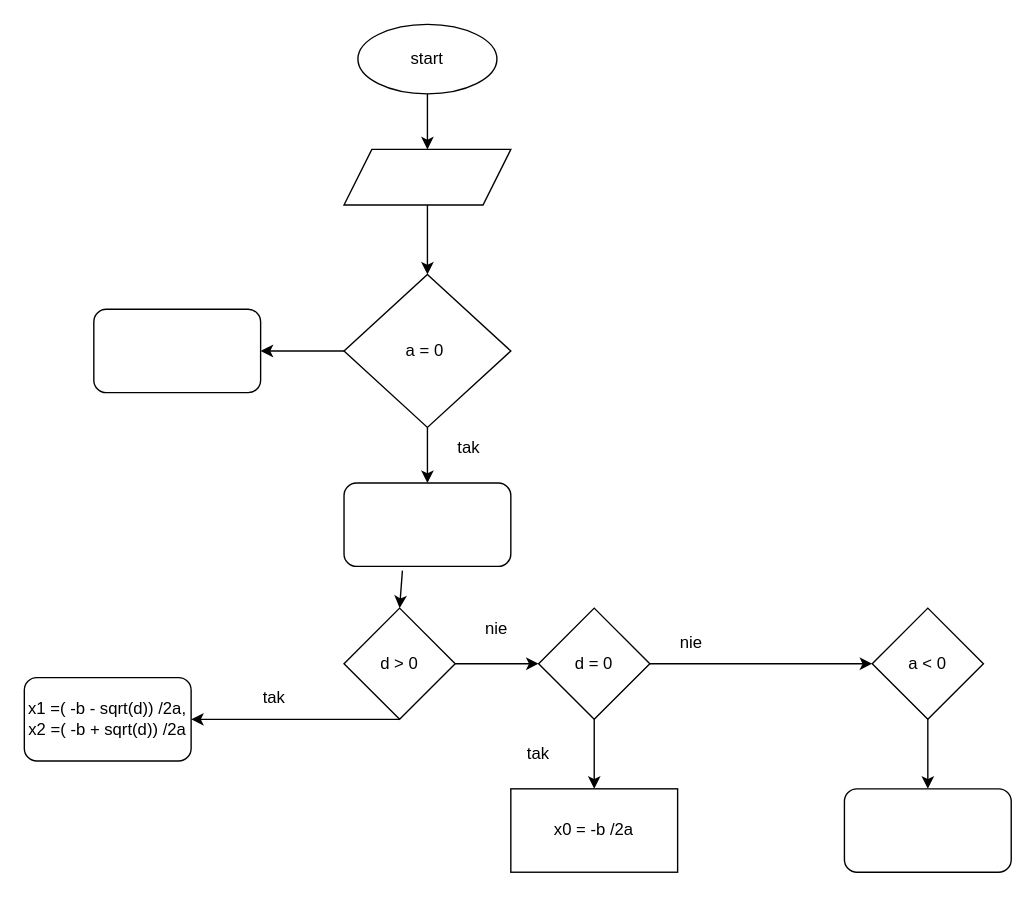
Image size: 1036x897. Some labels were removed from this diagram. Each missing label, with the centre of its shape:
"brak rozwiazan" belongs at point 927,829.
"d = b^2 - 4 *a*c" belongs at point 427,524.
"podaj a,b,c" belongs at point 427,176.
"To nie jest rownanie kwadratowe" belongs at point 176,350.
